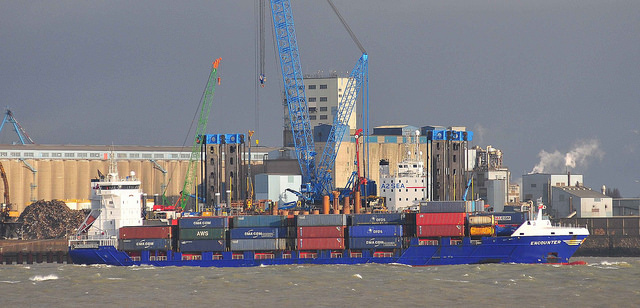container_ship: (60, 164, 599, 270)
